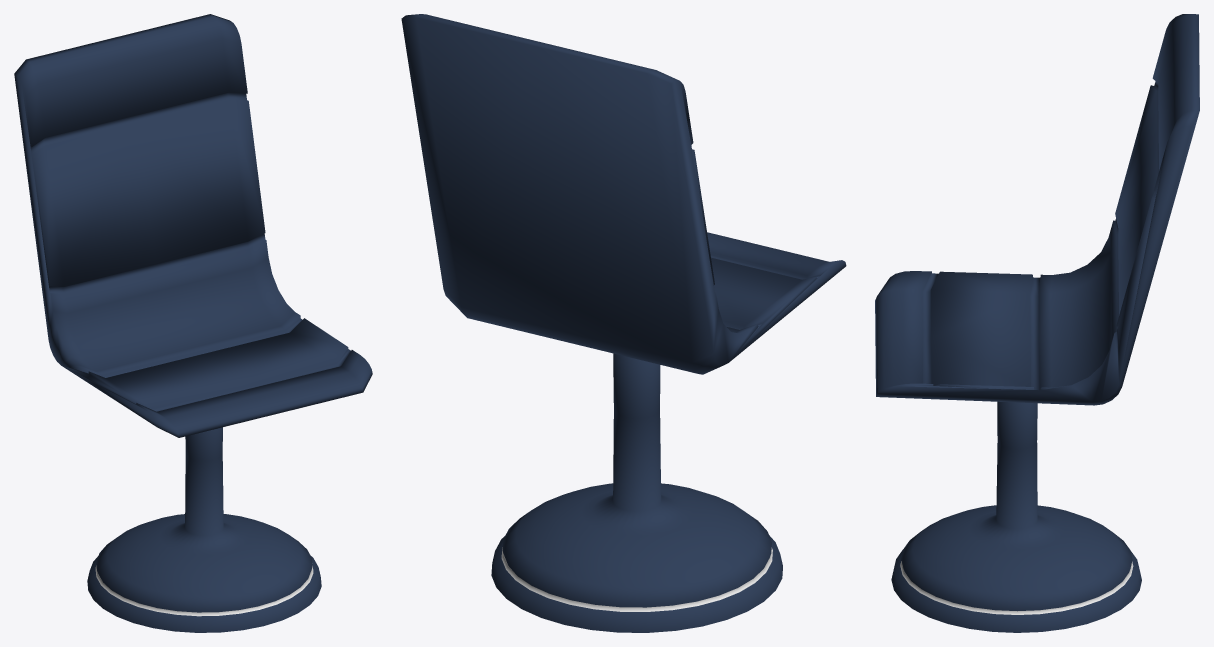
The model's file is Chaise.fbx.
3 renders of one model, left to right at view 1: azimuth 30°, elevation 25°; view 2: azimuth 150°, elevation 25°; view 3: azimuth 270°, elevation 25°, orthographic. The views are drawn at different scales.
Visible parts, largest first — view 1: Chaise.001; view 2: Chaise.001; view 3: Chaise.001.
Boxes of the visible parts, bbox=[...] form: Chaise.001: bbox=[14, 14, 372, 632]; Chaise.001: bbox=[401, 14, 846, 632]; Chaise.001: bbox=[875, 14, 1199, 632].
Bounding box in the file's own units: 56.73 × 121 × 68.8.
